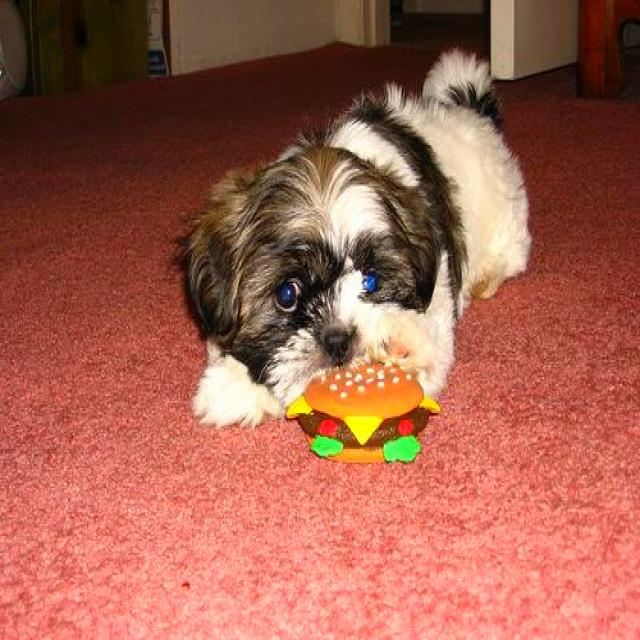shih_tzu: (172, 51, 532, 430)
